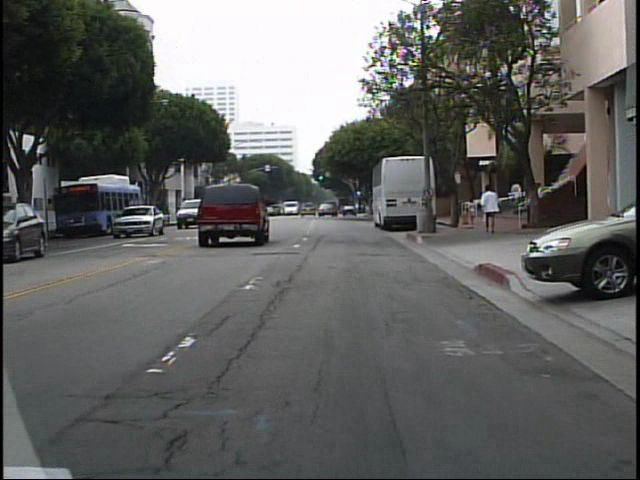person: (479, 183, 504, 237), (465, 195, 478, 226)
